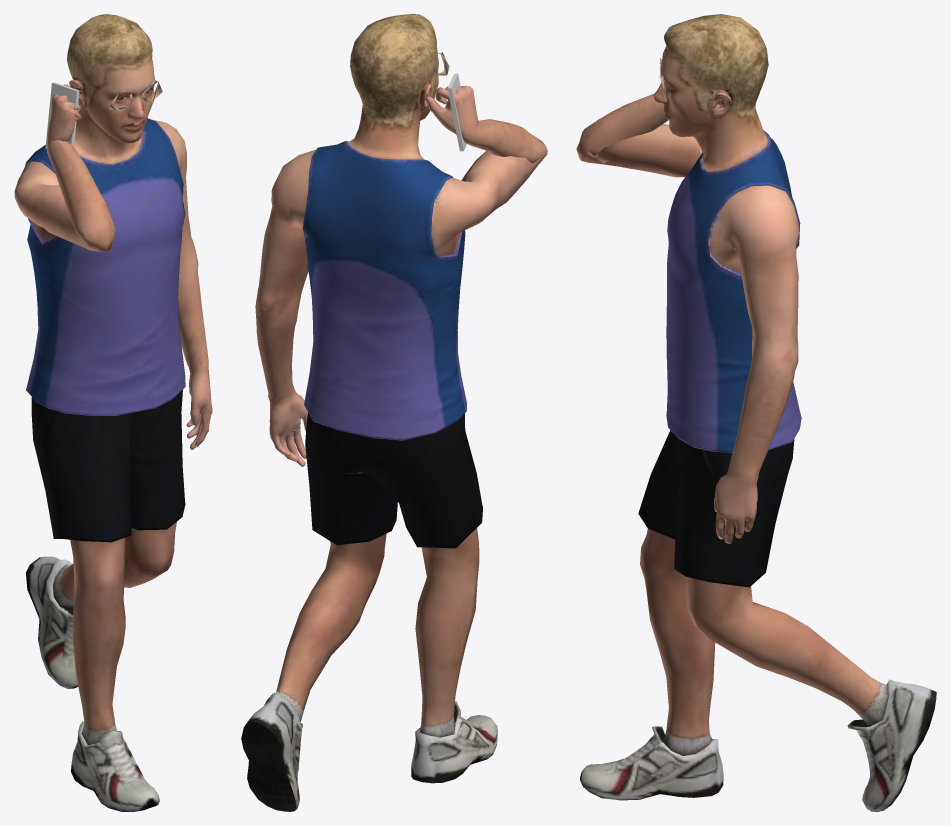
The picture shows the model from 3 angles, left to right: view 1: azimuth 30°, elevation 25°; view 2: azimuth 150°, elevation 25°; view 3: azimuth 270°, elevation 25°; orthographic projection. The views are drawn at different scales.
Visible parts, largest first — view 1: p01601; view 2: p01601; view 3: p01601.
Boxes of the visible parts, <box> form: p01601: <box>14,14,212,811</box>; p01601: <box>241,14,547,811</box>; p01601: <box>576,14,936,811</box>.
Bounding box in the file's own units: 0.5136 × 1.79 × 0.7441.
Materials: 1 (1 with a texture image).
